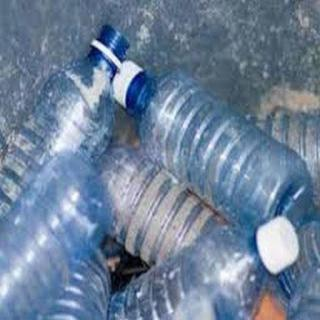Plastic-bottle: (113, 60, 317, 244), (1, 21, 134, 223), (107, 216, 304, 320), (1, 151, 112, 320), (96, 141, 231, 269)
